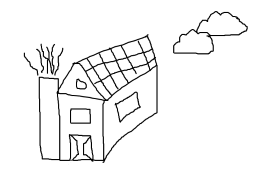clouds: (173, 10, 247, 55)
door: (66, 132, 94, 166)
open_window: (115, 91, 140, 122), (65, 103, 96, 127)
roof: (57, 35, 157, 100)
smoking_chimney: (19, 39, 70, 98)
wall: (55, 90, 107, 165)
